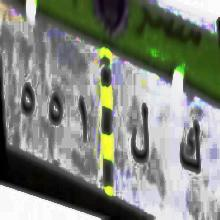1: (73, 84, 92, 154)
5: (17, 76, 38, 131), (46, 85, 64, 138)
kaaf: (176, 109, 203, 186)
laam: (130, 88, 151, 182)
